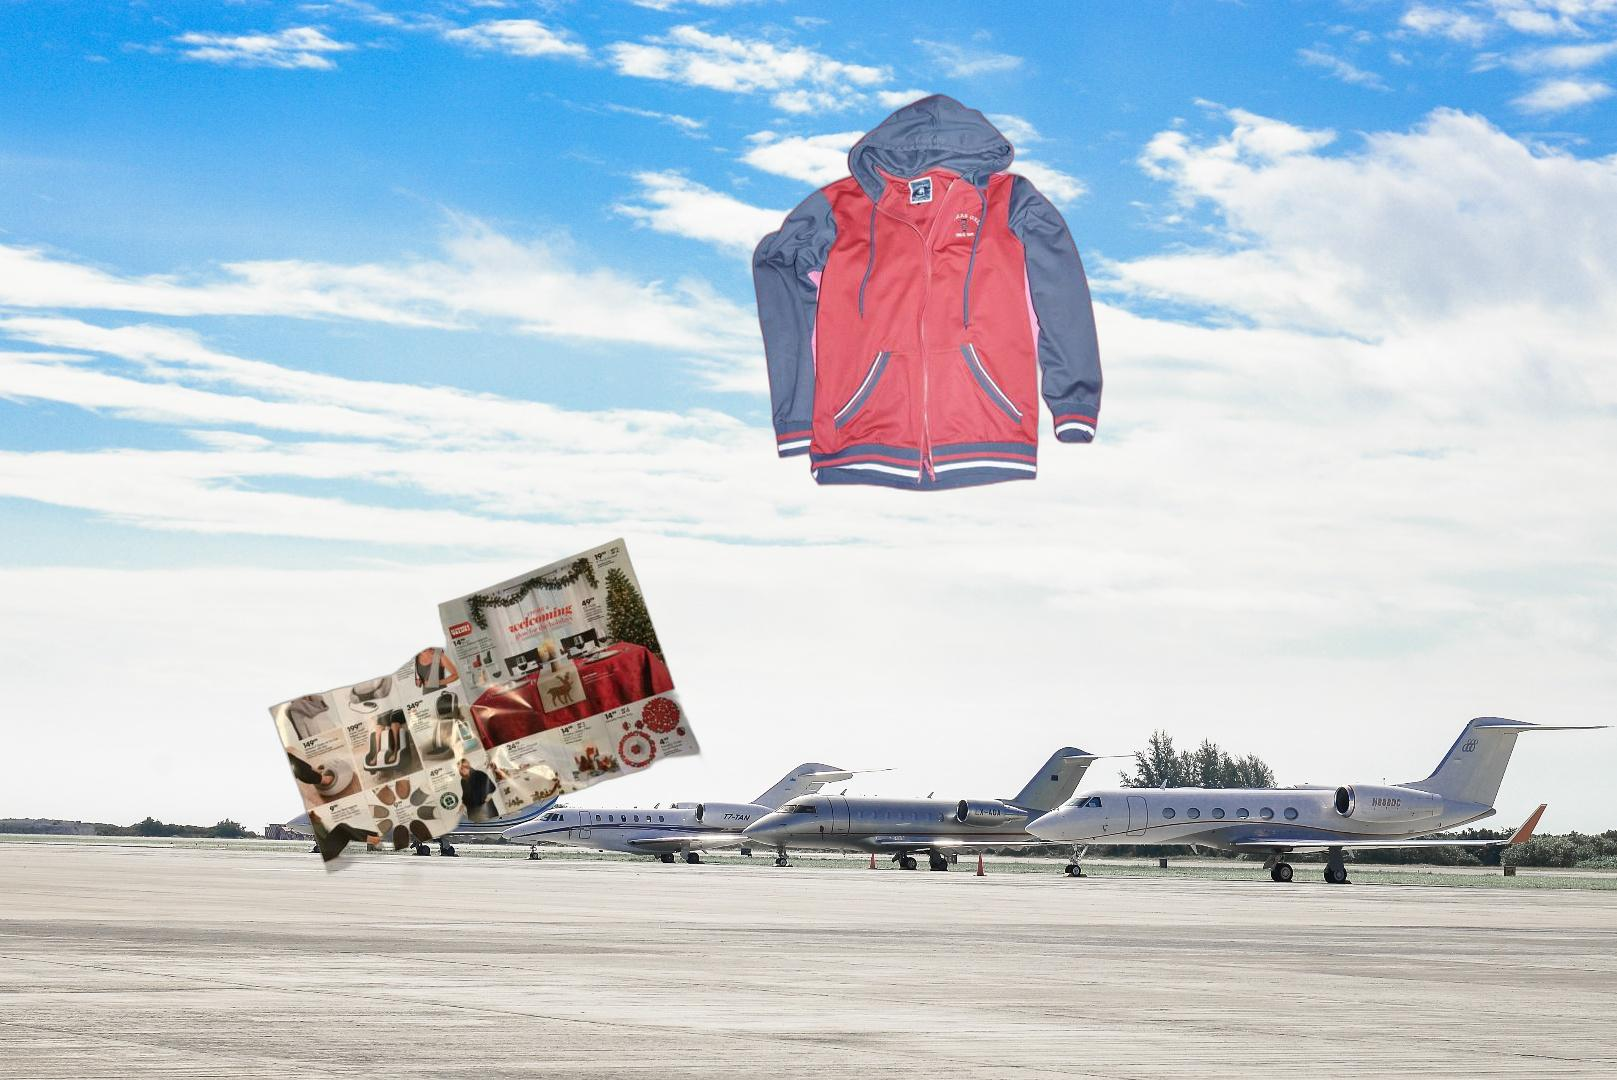clothes: (749, 89, 1106, 495)
paper: (265, 536, 707, 877)
